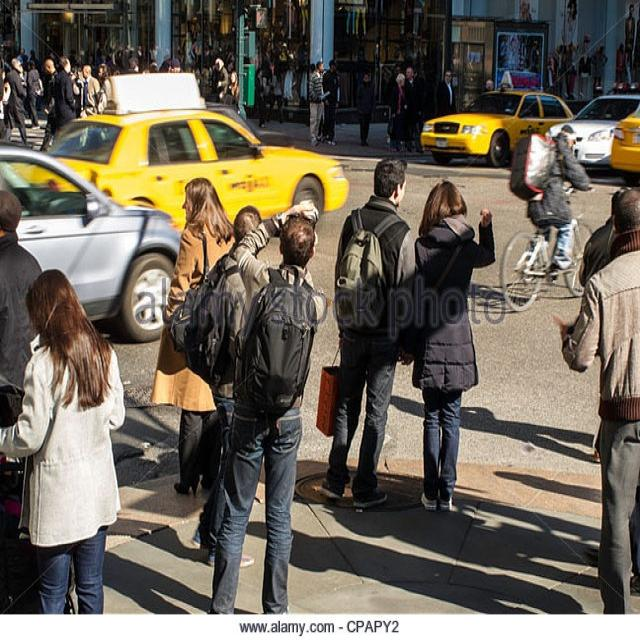body: (100, 400, 366, 614), (205, 195, 335, 614), (0, 265, 130, 639), (551, 187, 639, 639), (314, 153, 416, 510), (365, 468, 604, 614), (146, 172, 241, 502), (407, 176, 497, 514), (187, 203, 264, 571), (385, 389, 602, 469), (578, 187, 628, 465), (508, 123, 592, 284), (517, 0, 640, 100), (0, 187, 45, 393), (182, 30, 310, 78), (2, 56, 31, 148), (97, 43, 183, 73), (466, 279, 543, 311), (402, 66, 426, 158), (37, 56, 59, 154), (52, 55, 78, 132), (387, 72, 409, 155), (320, 58, 340, 147), (354, 72, 376, 147), (307, 60, 325, 149), (24, 58, 44, 130), (266, 64, 286, 124), (81, 64, 102, 116), (435, 69, 456, 117), (253, 65, 267, 128), (67, 67, 83, 119), (96, 61, 113, 109), (214, 56, 230, 105), (225, 69, 241, 105), (198, 66, 213, 104), (95, 74, 108, 109), (29, 47, 42, 78), (18, 46, 30, 72), (71, 59, 84, 81), (611, 105, 629, 120), (504, 96, 516, 115), (308, 62, 317, 80)
